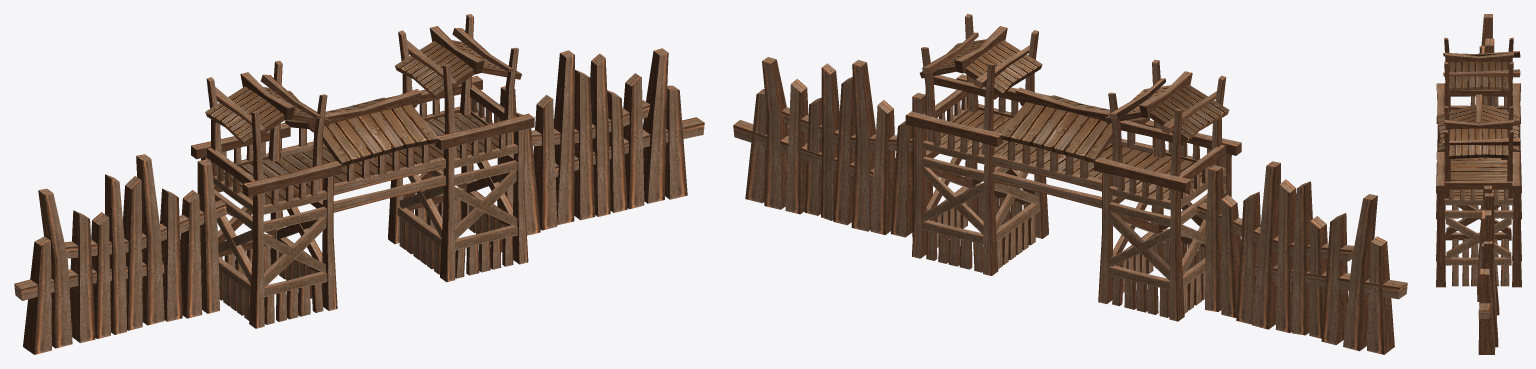
File: FH_Env_Guanqia_02.FBX
The picture shows the model from 3 angles, left to right: view 1: azimuth 30°, elevation 25°; view 2: azimuth 150°, elevation 25°; view 3: azimuth 270°, elevation 25°; orthographic projection. The views are drawn at different scales.
Visible parts, largest first — view 1: 02, Object11, Object13; view 2: 02, Object11, Object13; view 3: 02, Object13, Object11.
Boxes of the visible parts, x1,y1,x2,y2 form: 02: (191, 14, 534, 328); Object11: (14, 154, 226, 354); Object13: (497, 48, 704, 235); 02: (905, 14, 1241, 321); Object11: (1196, 161, 1407, 354); Object13: (733, 57, 932, 237); 02: (1436, 37, 1521, 287); Object13: (1477, 185, 1499, 354); Object11: (1479, 14, 1494, 105).
Bounding box in the file's own units: 33.53 × 9.93 × 4.99.
